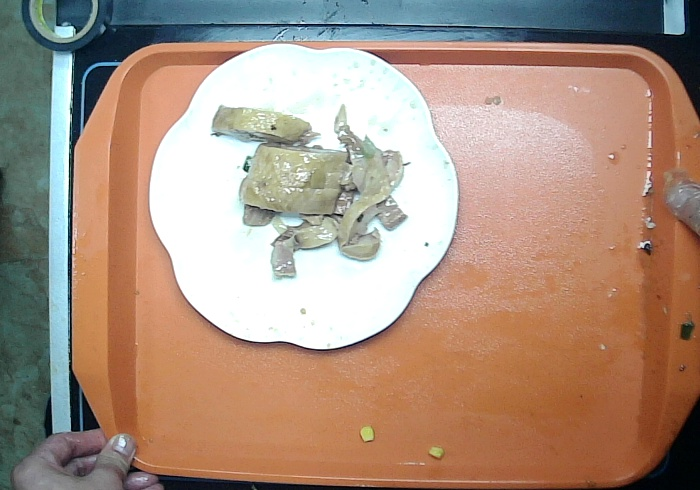HZYJPL-Bai_Se_Hua_Duo_Wan: (144, 39, 460, 354)
